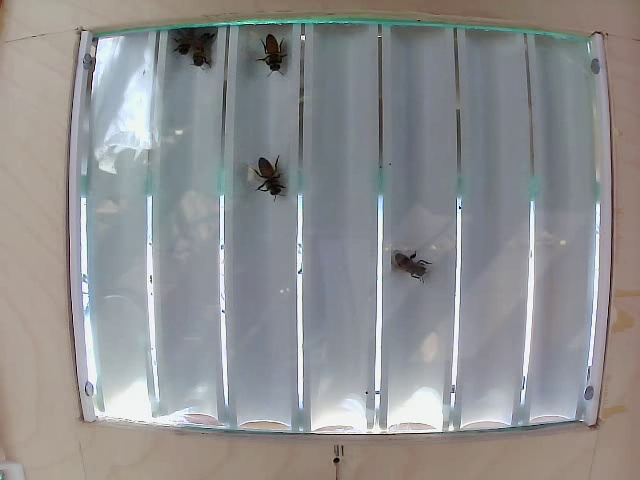bee: (386, 232, 431, 296), (246, 45, 287, 93), (250, 164, 299, 203), (188, 31, 222, 79), (161, 24, 198, 64)
